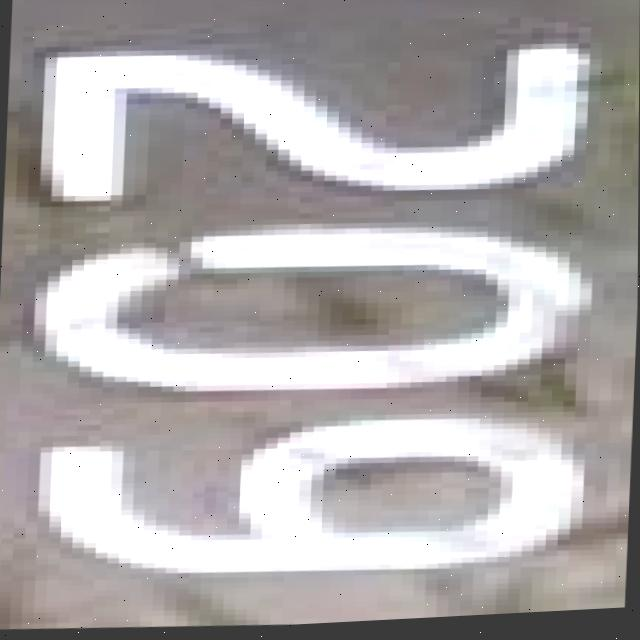character: (21, 198, 607, 418), (21, 18, 598, 230), (17, 395, 599, 601)
